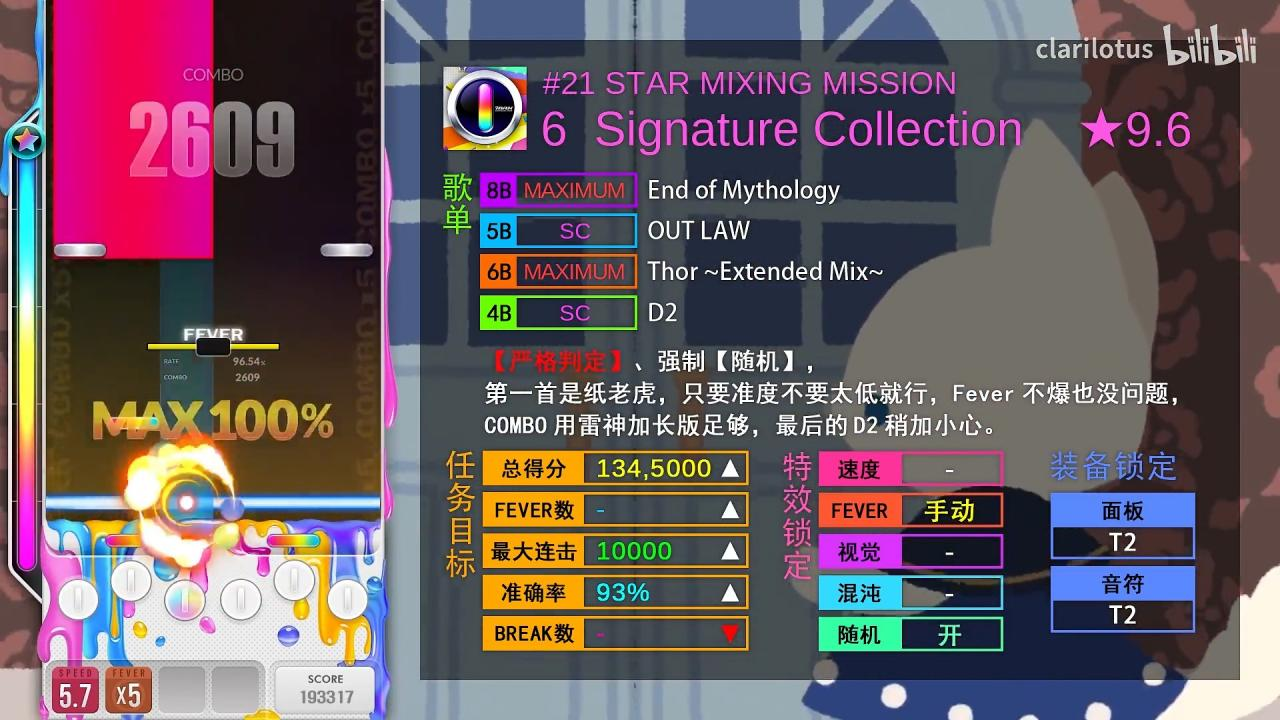note: (54, 242, 107, 258), (321, 243, 373, 257), (107, 417, 159, 430)
xstart: (54, 241, 214, 260)
